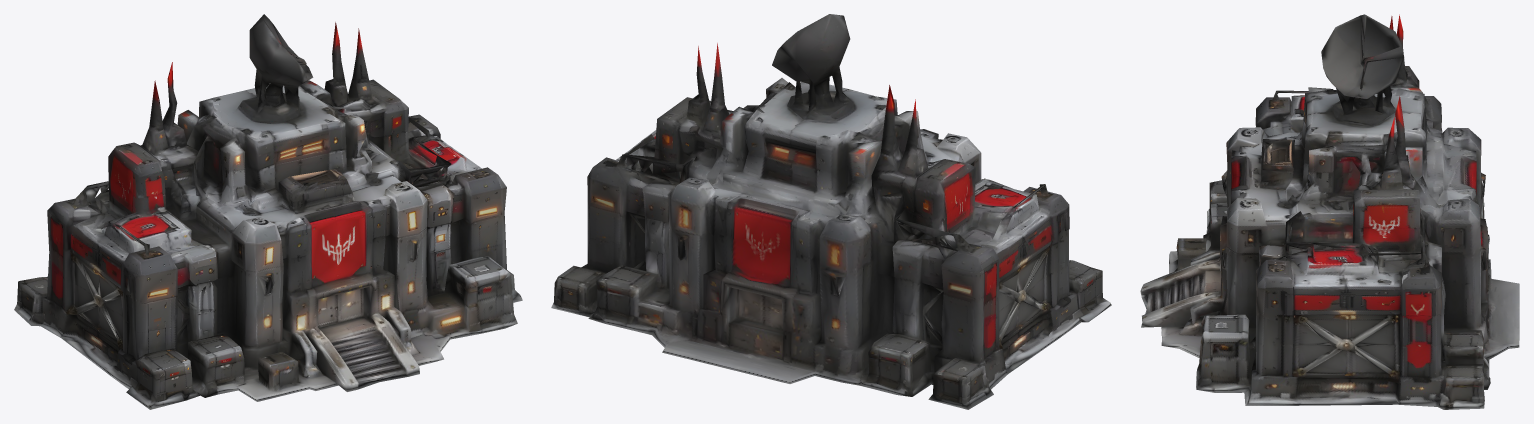
File: sci-fi_fortress_3d_model.fbx
3 views of the same model, side by side, from view 1: azimuth 30°, elevation 25°; view 2: azimuth 150°, elevation 25°; view 3: azimuth 270°, elevation 25° (orthographic). The views are drawn at different scales.
Visible parts, largest first — view 1: tripo_node_f85da77b; view 2: tripo_node_f85da77b; view 3: tripo_node_f85da77b.
Boxes of the visible parts, x1=… form: tripo_node_f85da77b: x1=14, y1=14, x2=522, y2=409; tripo_node_f85da77b: x1=551, y1=14, x2=1111, y2=409; tripo_node_f85da77b: x1=1140, y1=14, x2=1519, y2=409.
Bounding box in the file's own units: 1 × 0.6804 × 0.801.
